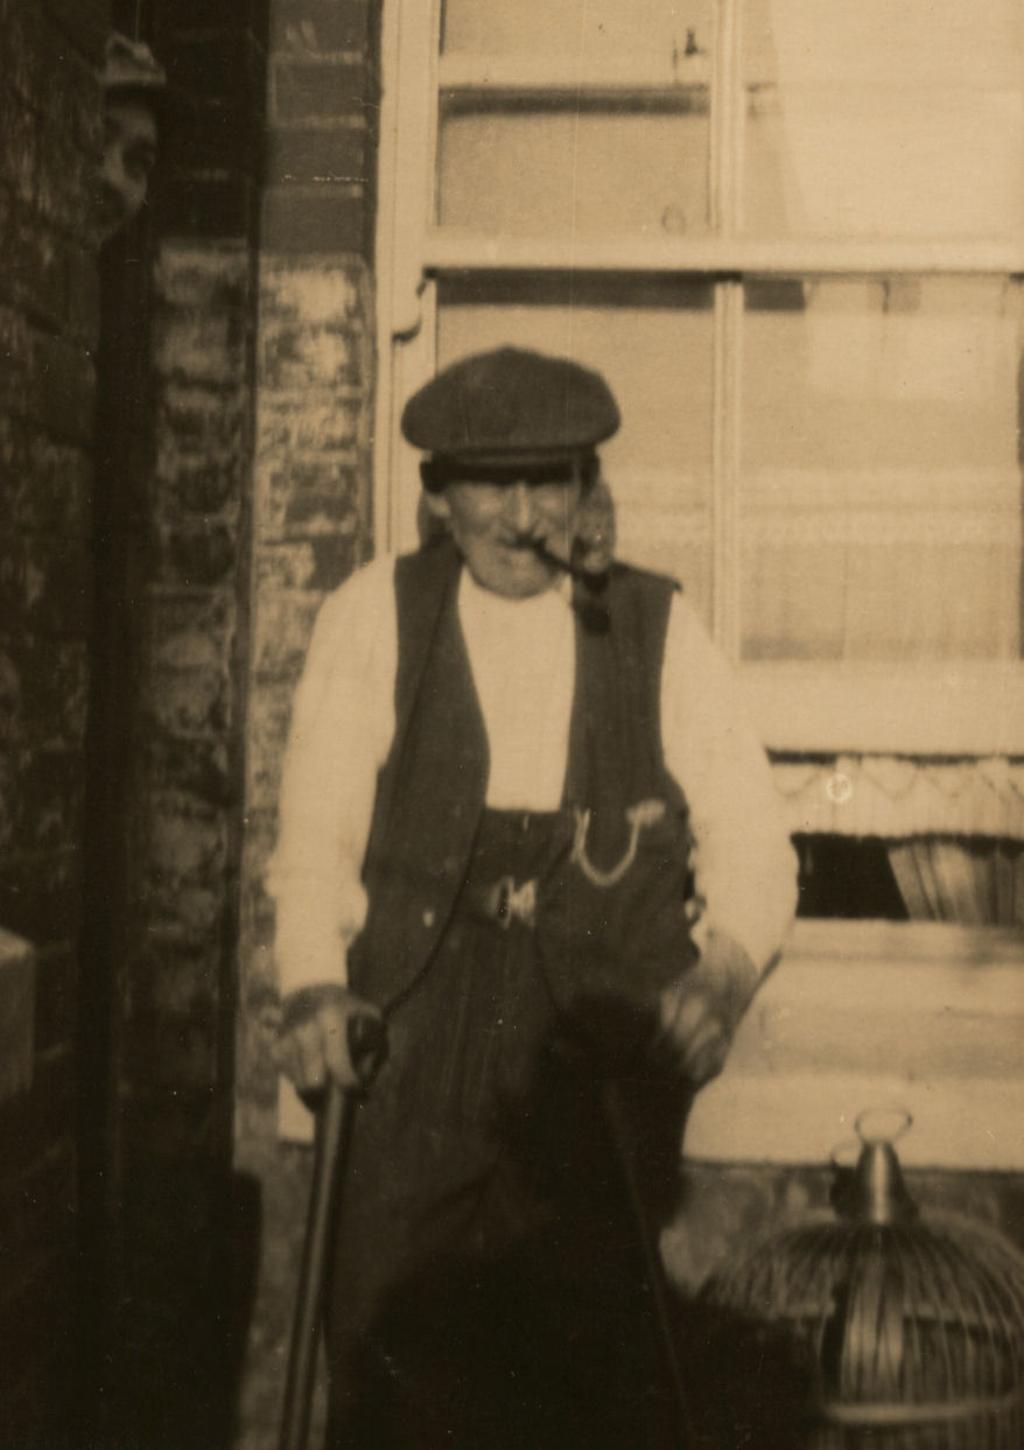face: (451, 445, 584, 595)
